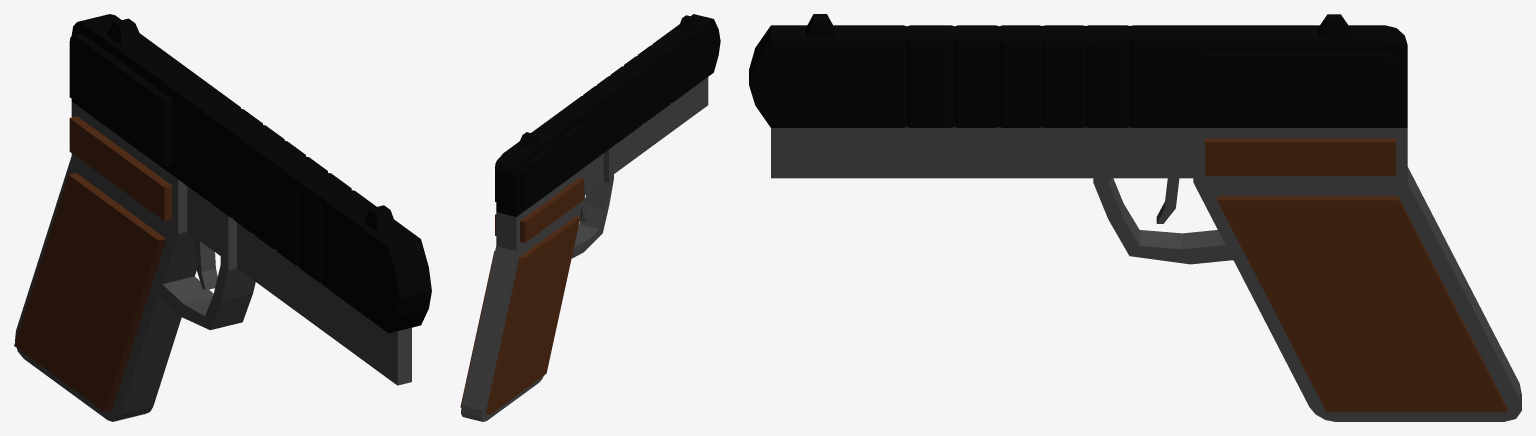
The model's file is pistol.fbx.
The picture shows the model from 3 angles, left to right: view 1: azimuth 30°, elevation 25°; view 2: azimuth 150°, elevation 25°; view 3: azimuth 270°, elevation 25°; orthographic projection. The views are drawn at different scales.
Parts seen in each view (by area): view 1: Plane.041; view 2: Plane.041; view 3: Plane.041.
Boxes of the visible parts, x1,y1,x2,y2 form: Plane.041: (14,14,431,421); Plane.041: (460,14,720,421); Plane.041: (749,14,1521,421).
Size of the model in its own units: 0.0514 by 0.4003 by 0.707.
